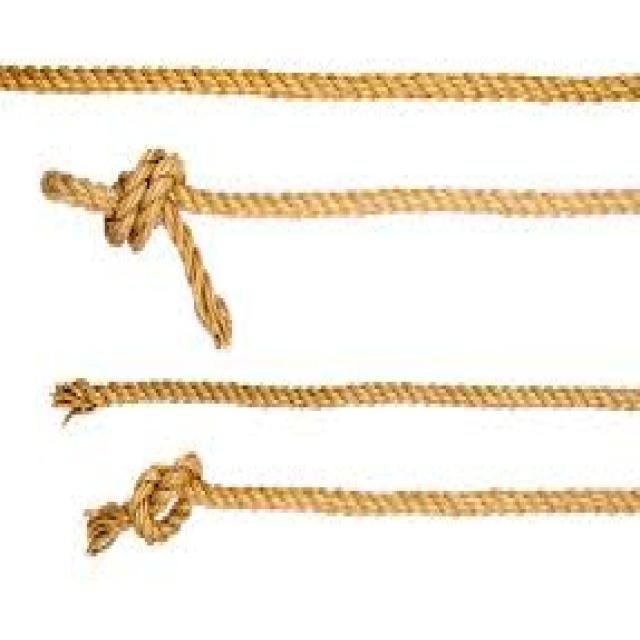Rope: (44, 349, 640, 426)
